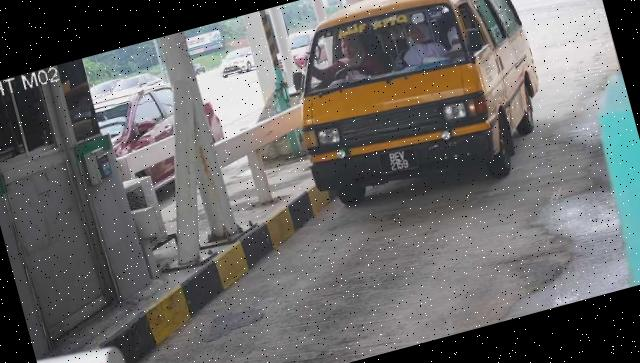License_Plate: (376, 145, 422, 181)
van: (272, 1, 561, 224)
